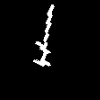double_crochet: (33, 5, 53, 65)
